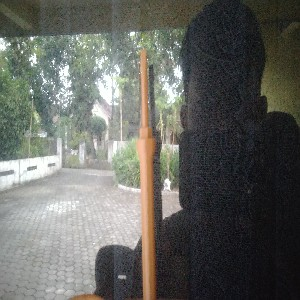obeng: (132, 48, 158, 300)
